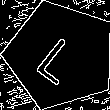L_NE: (32, 26, 89, 85)
